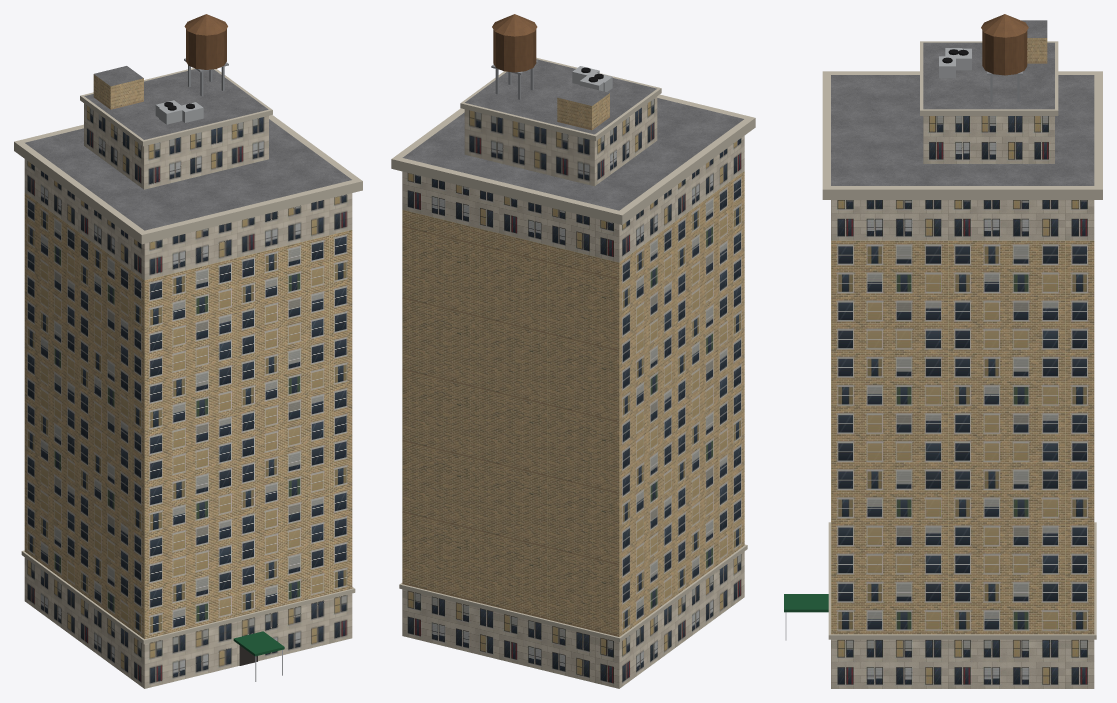
Rendered from 018_prewar_penthouse.glb.
The picture shows the model from 3 angles, left to right: view 1: azimuth 30°, elevation 25°; view 2: azimuth 150°, elevation 25°; view 3: azimuth 270°, elevation 25°; orthographic projection. The views are drawn at different scales.
Parts seen in each view (by area): view 1: 018_prewar_penthouse; view 2: 018_prewar_penthouse; view 3: 018_prewar_penthouse.
Part boxes in pixels (x1,y1,x2,y2): 018_prewar_penthouse: (14,14,362,688); 018_prewar_penthouse: (391,14,755,688); 018_prewar_penthouse: (784,14,1102,688).
Size of the model in its own units: 29.8 by 75 by 33.9.
12 materials, 5 textured.
